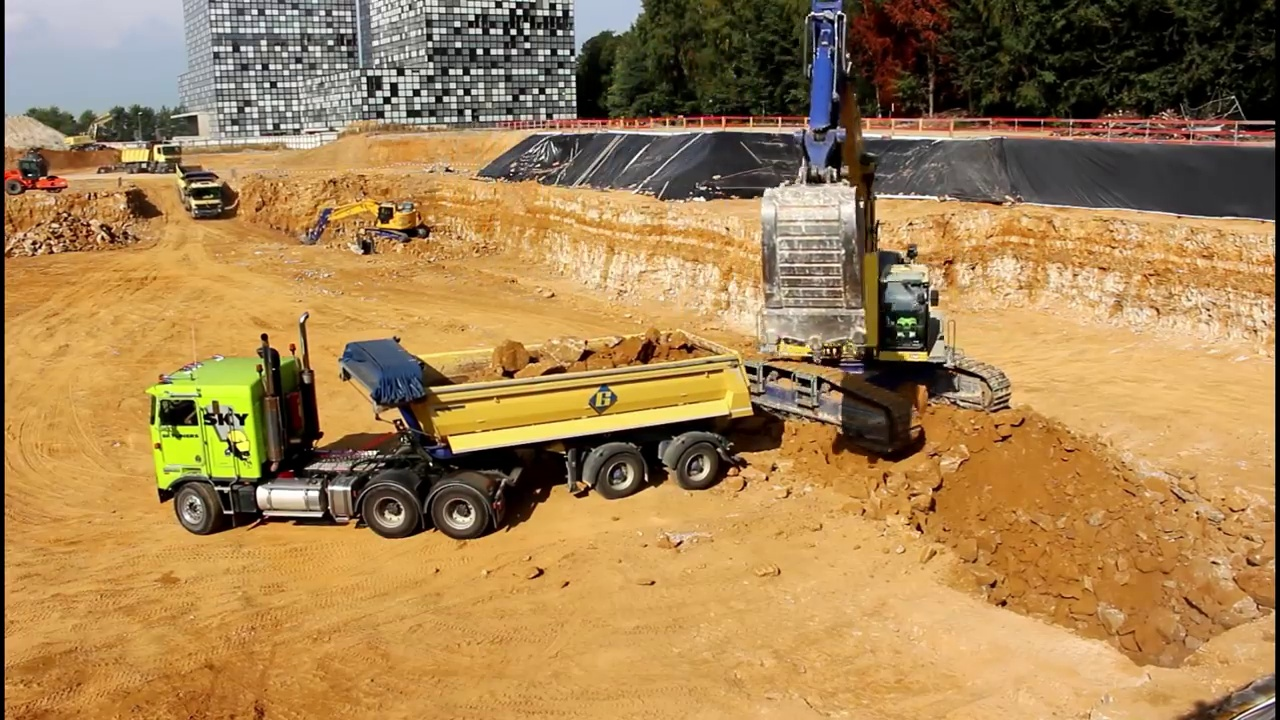compactor: (5, 152, 70, 199)
excavator: (683, 1, 1015, 462), (294, 195, 432, 254), (61, 109, 129, 157)
truck: (137, 306, 764, 543), (168, 158, 235, 221), (122, 140, 187, 179)
